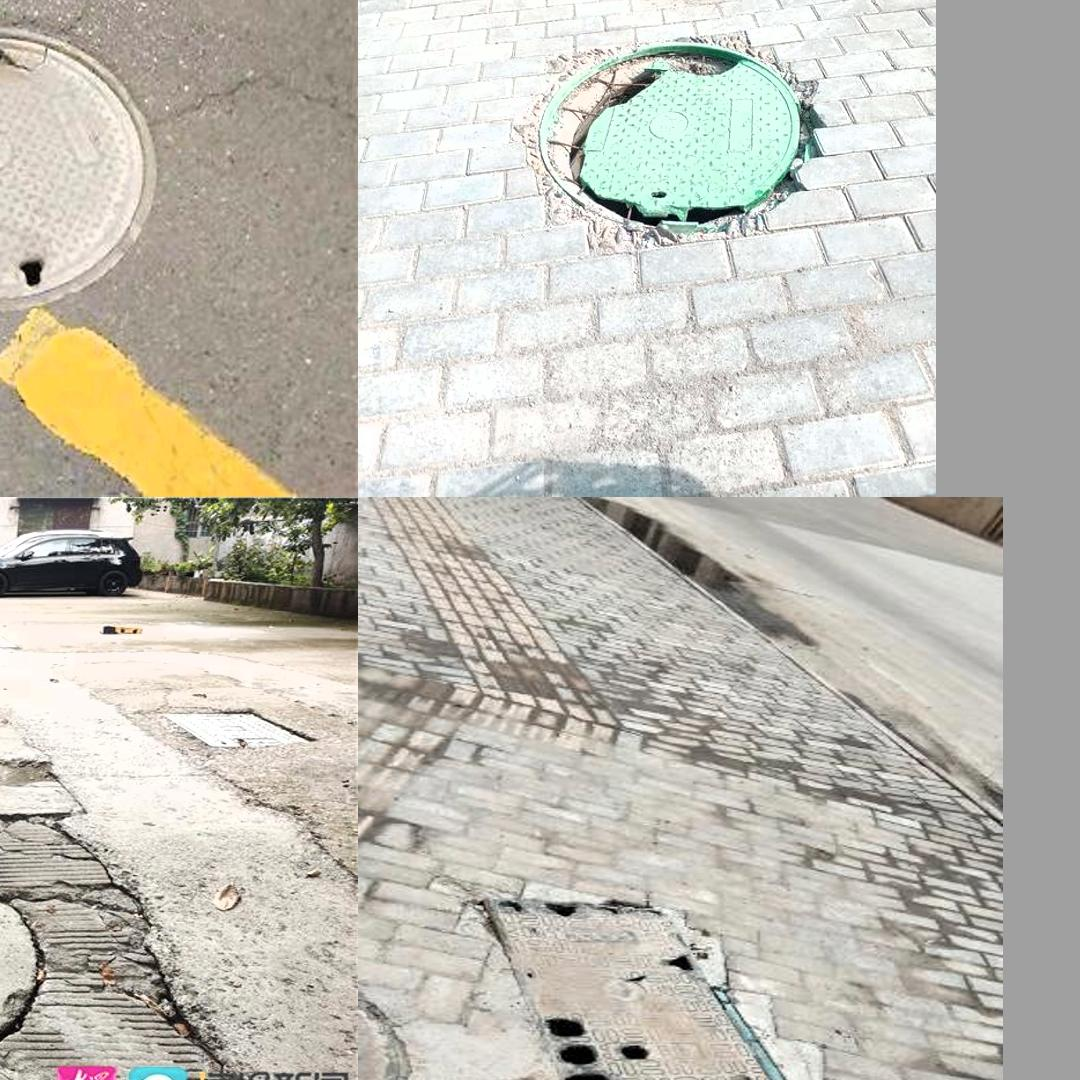broke: (511, 37, 833, 242), (468, 885, 799, 1080), (0, 8, 167, 322), (0, 780, 174, 1080)
